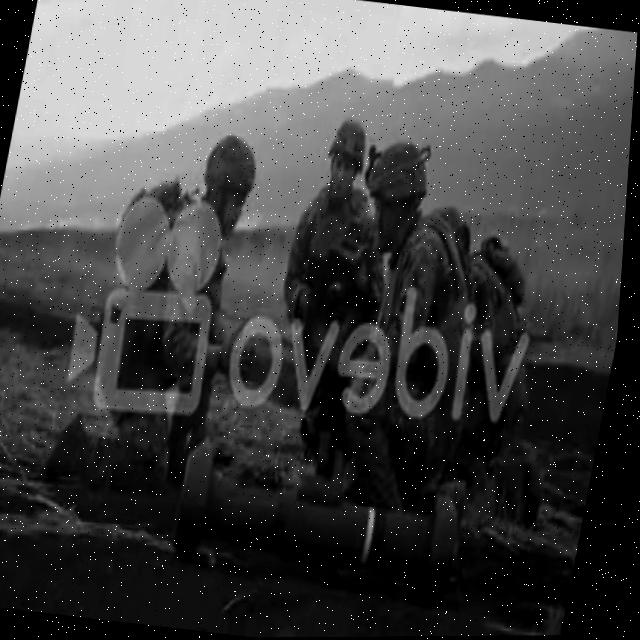rocket: (169, 427, 488, 609)
